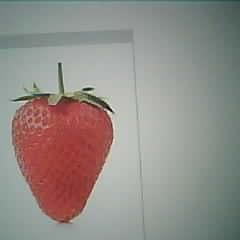straw-ripe: (13, 90, 114, 222)
